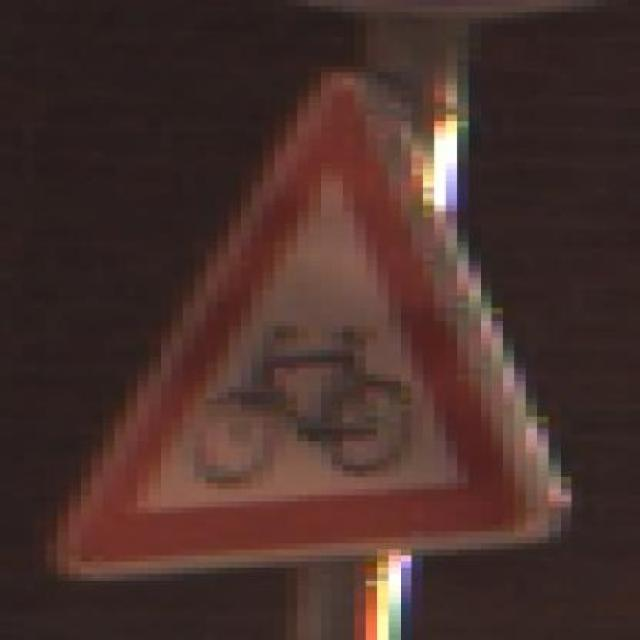CYCLE ROUTE AHEAD WARNING: (46, 54, 583, 592)
